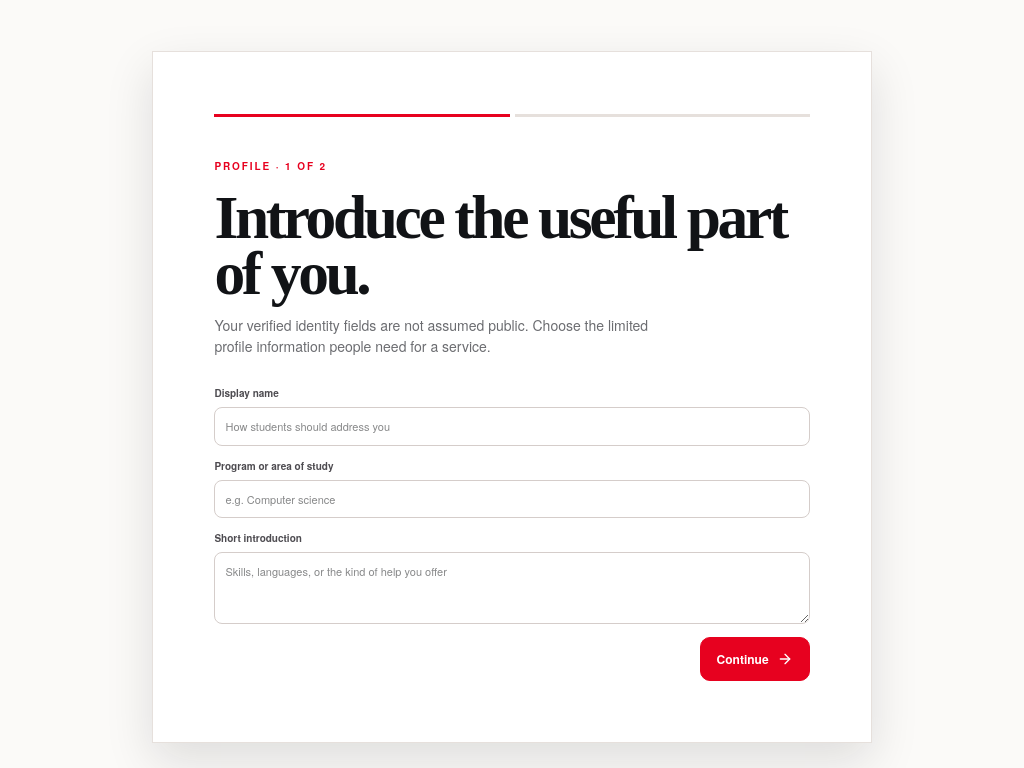
Scenario: authenticated onboarding › persists the chosen profile fields before advancing to location
In the field labelled "Display name": (512, 426) x1=214 y1=407 x2=810 y2=446, type "Alex Rivera"
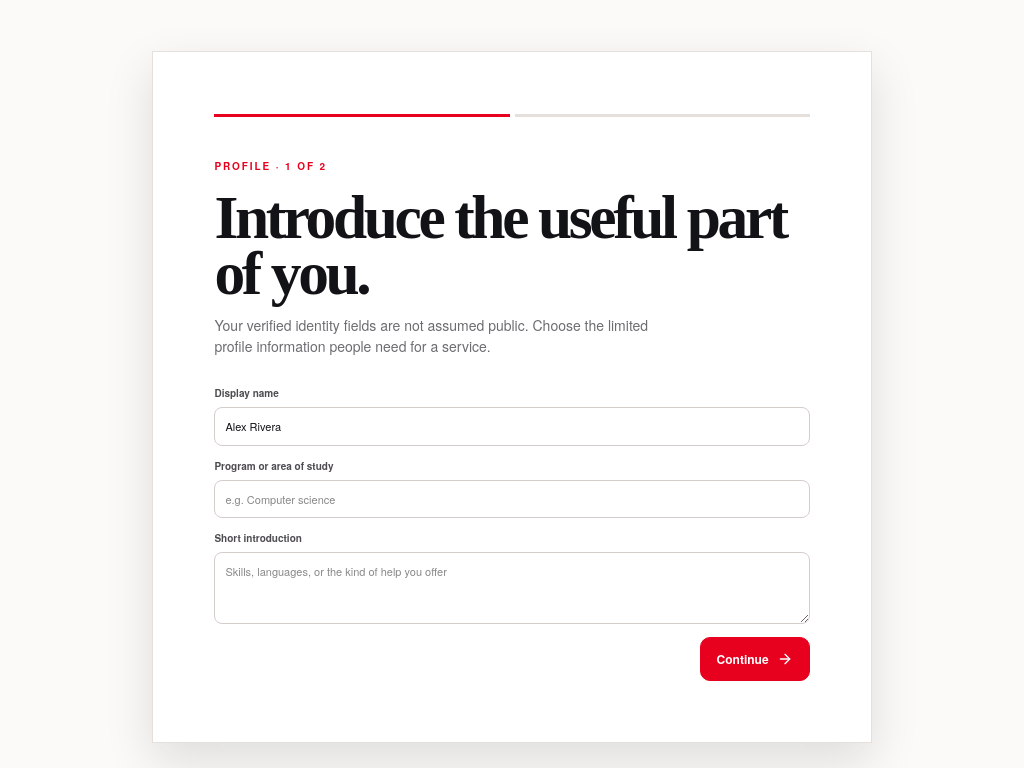
In the field labelled "Program or area of study": (512, 499) x1=214 y1=480 x2=810 y2=518, type "Computer science"
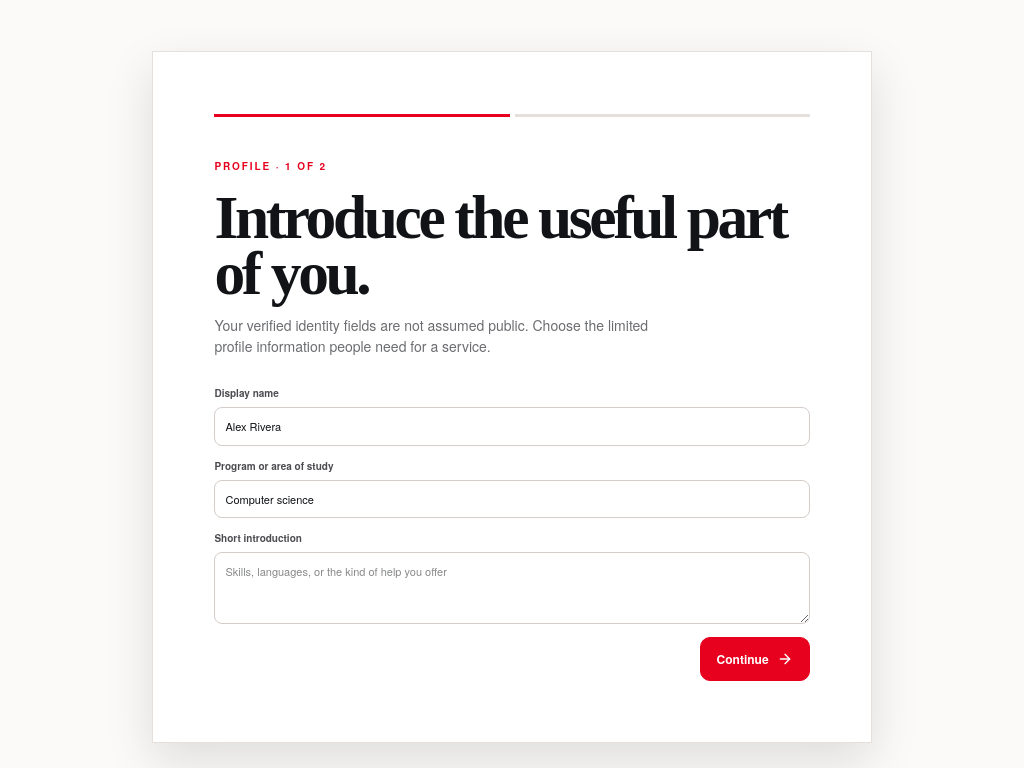
In the text box labelled "Short introduction": (512, 588) x1=214 y1=552 x2=810 y2=624, type "I can help with debugging."
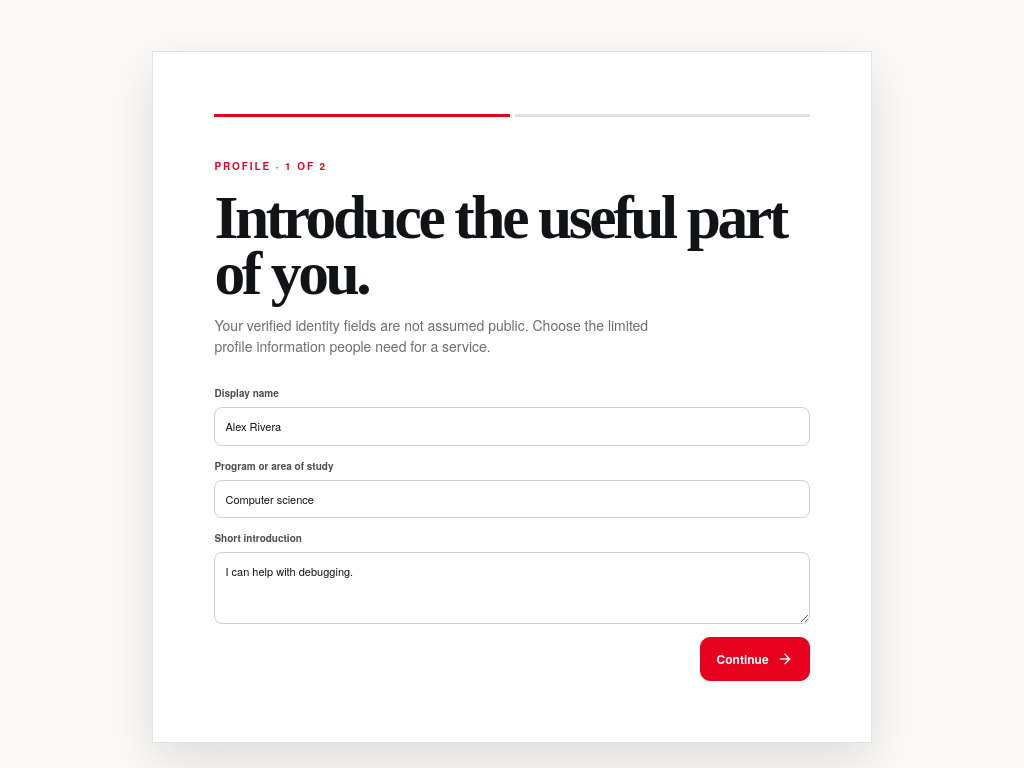
Click the button "Continue": click(755, 658) x1=700 y1=636 x2=810 y2=680
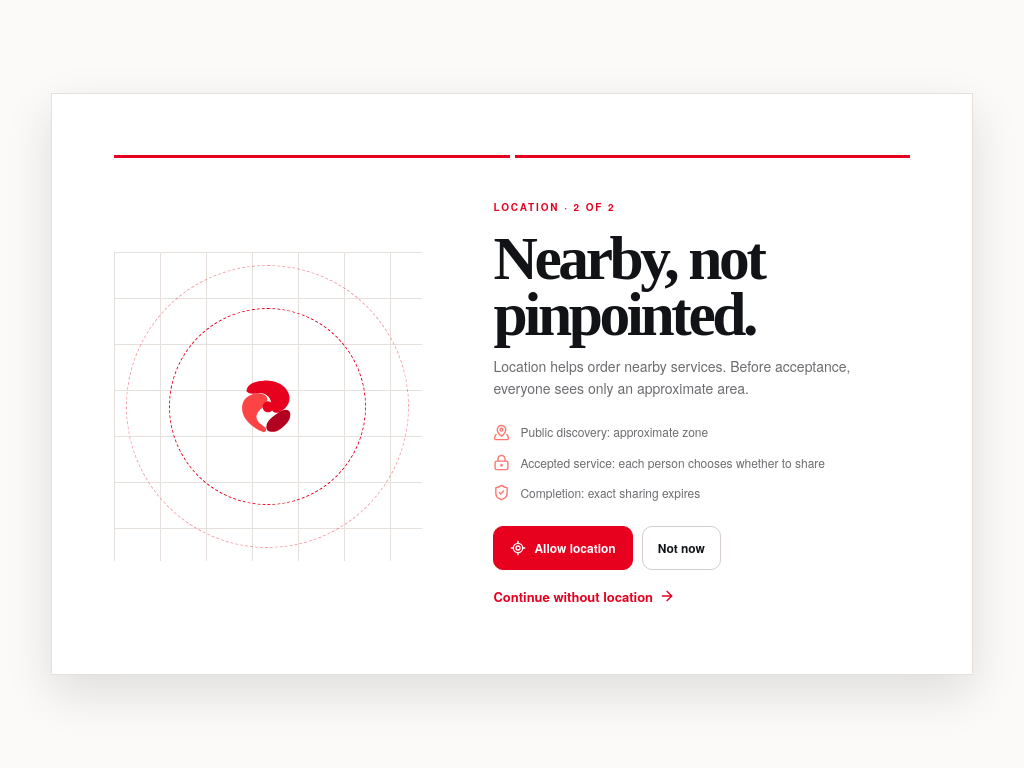
Check: the heading "Nearby, not pinpointed." is shown, box x1=494 y1=224 x2=764 y2=348
